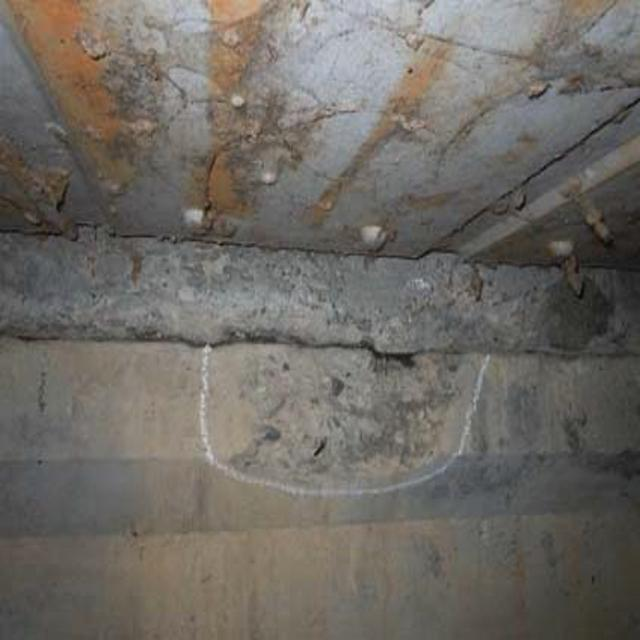spalling: (20, 228, 511, 326), (227, 339, 466, 487)
